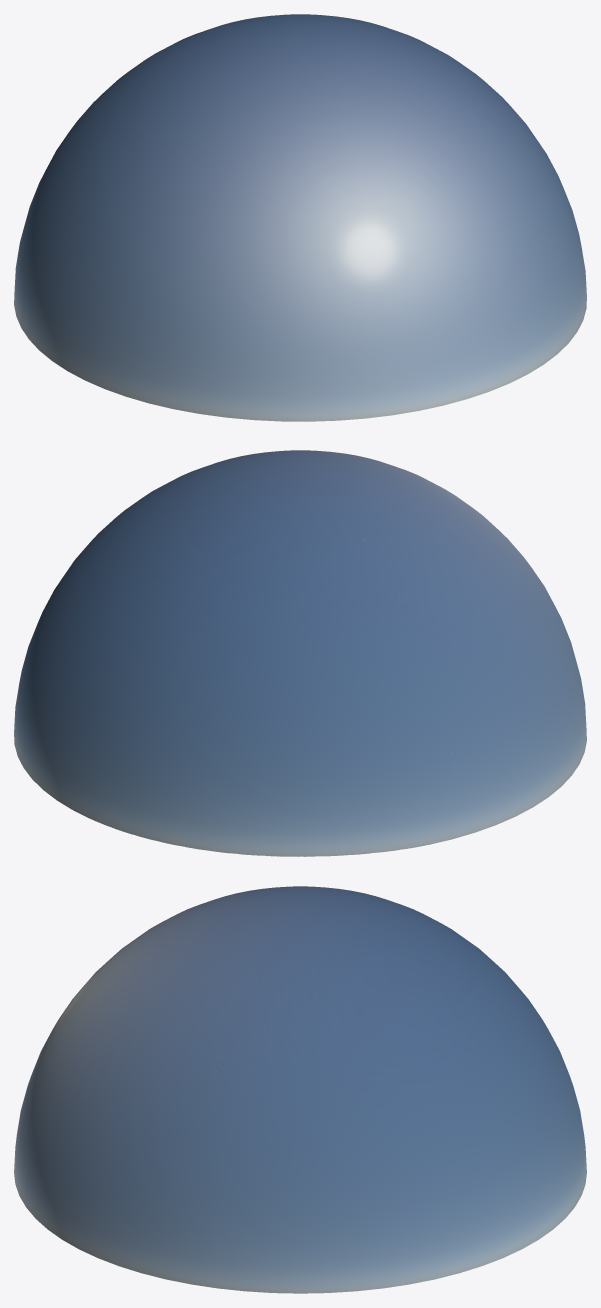
The model's file is skydome1.fbx.
3 views of the same model, one above another, from view 1: azimuth 30°, elevation 25°; view 2: azimuth 150°, elevation 25°; view 3: azimuth 270°, elevation 25° (orthographic).
Visible parts, largest first — view 1: Sphere; view 2: Sphere; view 3: Sphere.
Part boxes in pixels (bbox=[...]): Sphere: bbox=[14, 14, 586, 421]; Sphere: bbox=[14, 450, 586, 856]; Sphere: bbox=[14, 886, 586, 1293].
Size of the model in its own units: 512 by 256 by 512.
Materials: 1 (1 with a texture image).
